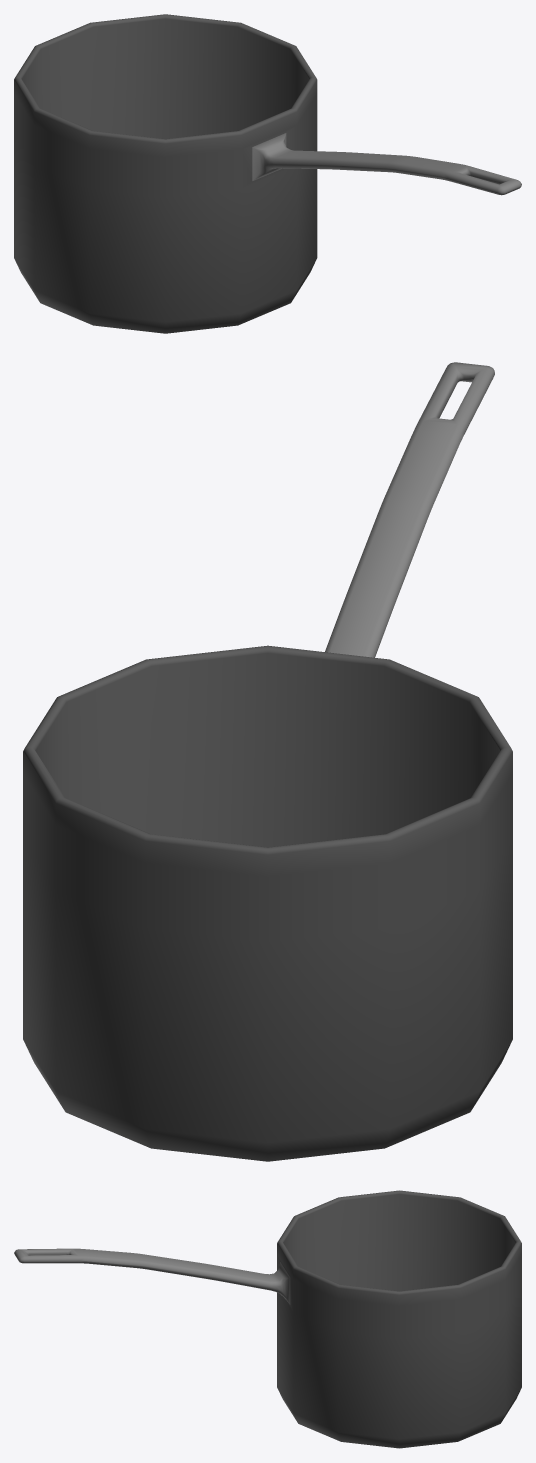
Rendered from Large Potpan.fbx.
3 views of the same model, one above another, from view 1: azimuth 30°, elevation 25°; view 2: azimuth 150°, elevation 25°; view 3: azimuth 270°, elevation 25° (orthographic). The views are drawn at different scales.
Parts seen in each view (by area): view 1: Large Saucepan; view 2: Large Saucepan; view 3: Large Saucepan.
Part boxes in pixels (x1=…): Large Saucepan: x1=14, y1=14, x2=521, y2=333; Large Saucepan: x1=23, y1=362, x2=512, y2=1161; Large Saucepan: x1=14, y1=1190, x2=521, y2=1448.
Size of the model in its own units: 34.53 by 30.16 by 71.62.
